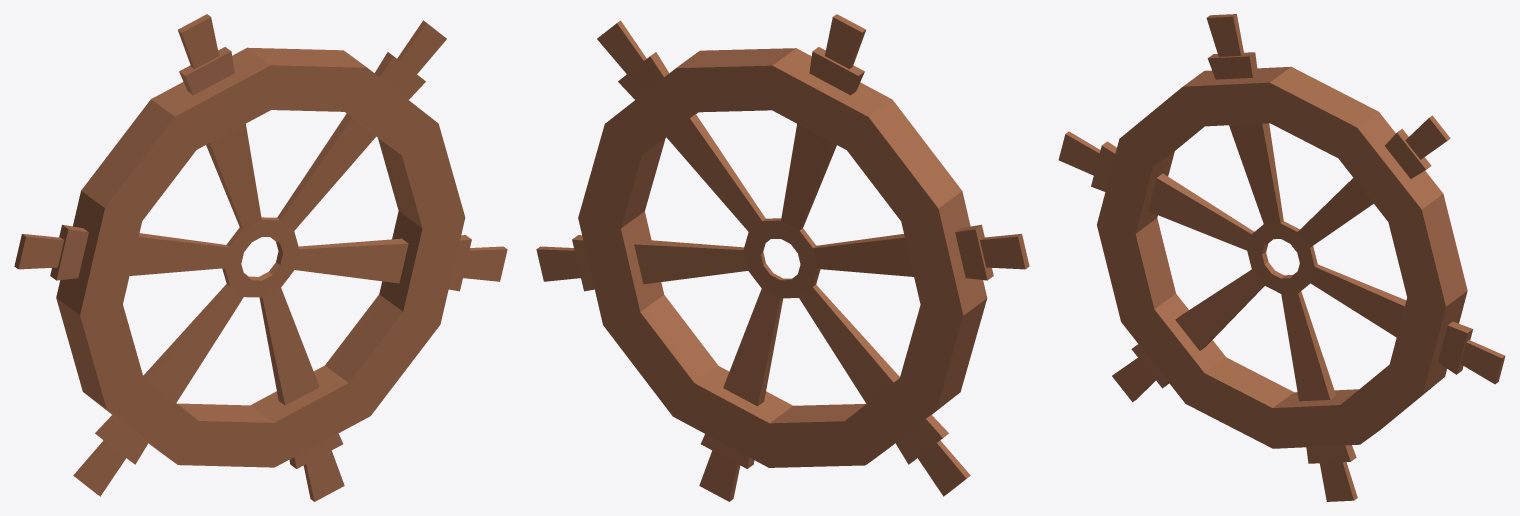
The model's file is se-nao-e-o-pumba-e-o.fbx.
3 views of the same model, side by side, from view 1: azimuth 30°, elevation 25°; view 2: azimuth 150°, elevation 25°; view 3: azimuth 330°, elevation 25° (orthographic). The views are drawn at different scales.
Parts seen in each view (by area): view 1: Torus; view 2: Torus; view 3: Torus.
Boxes of the visible parts, x1,y1,x2,y2 form: Torus: (14,14,507,501); Torus: (536,14,1029,501); Torus: (1058,14,1505,501).
Size of the model in its own units: 286 by 285 by 24.22.
